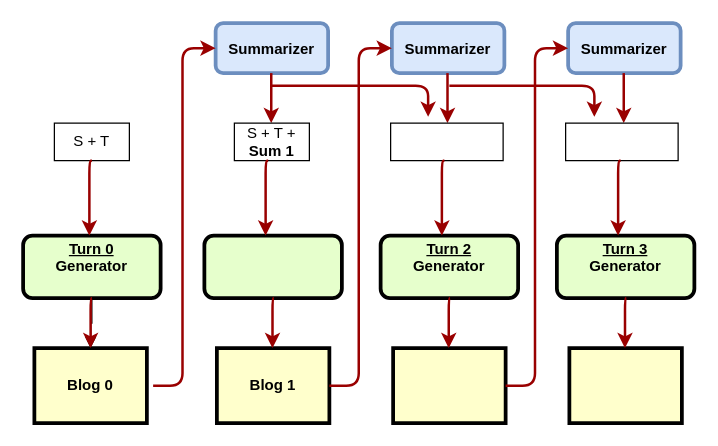
Image size: 718x446. Some labels were removed from this diagram. Each missing label, with the centre of its shape:
"Blog 2" belongs at [449,385].
"Blog 3" belongs at [625,385].
"S + T + Sum 1 + Sum 2" belongs at [446,141].
"S + T + Sum 2 + Sum 3" belongs at [621,141].
"Turn 1 Generator" belongs at [272,266].
